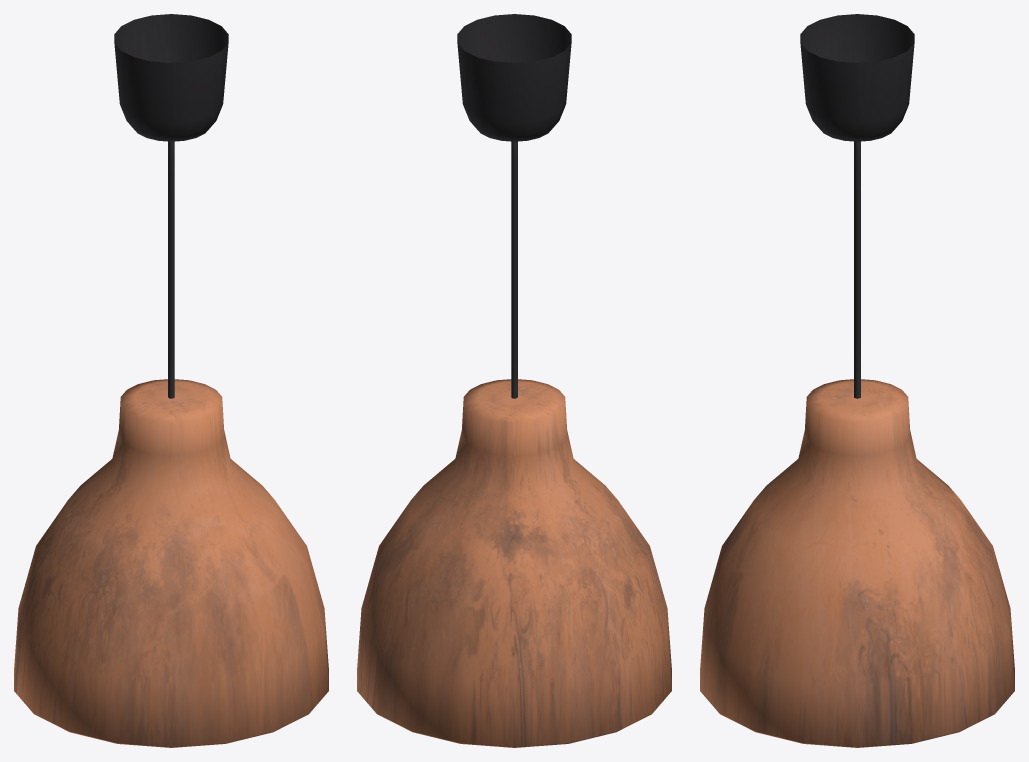
Rendered from spotlight.glb.
3 renders of one model, left to right at view 1: azimuth 30°, elevation 25°; view 2: azimuth 150°, elevation 25°; view 3: azimuth 270°, elevation 25°, orthographic.
Visible parts, largest first — view 1: light, lighttop, lightwire; view 2: light, lighttop, lightwire; view 3: light, lighttop, lightwire.
Part boxes in pixels (left/top/right/bottom): light: left=14, top=379, right=328, bottom=747; lighttop: left=114, top=14, right=228, bottom=141; lightwire: left=168, top=141, right=174, bottom=398; light: left=357, top=379, right=671, bottom=747; lighttop: left=457, top=14, right=571, bottom=141; lightwire: left=511, top=141, right=517, bottom=398; light: left=700, top=379, right=1014, bottom=747; lighttop: left=800, top=14, right=914, bottom=141; lightwire: left=854, top=141, right=860, bottom=398.
Size of the model in its own units: 21.98 by 48.79 by 21.64.
Materials: 1 (1 with a texture image).
